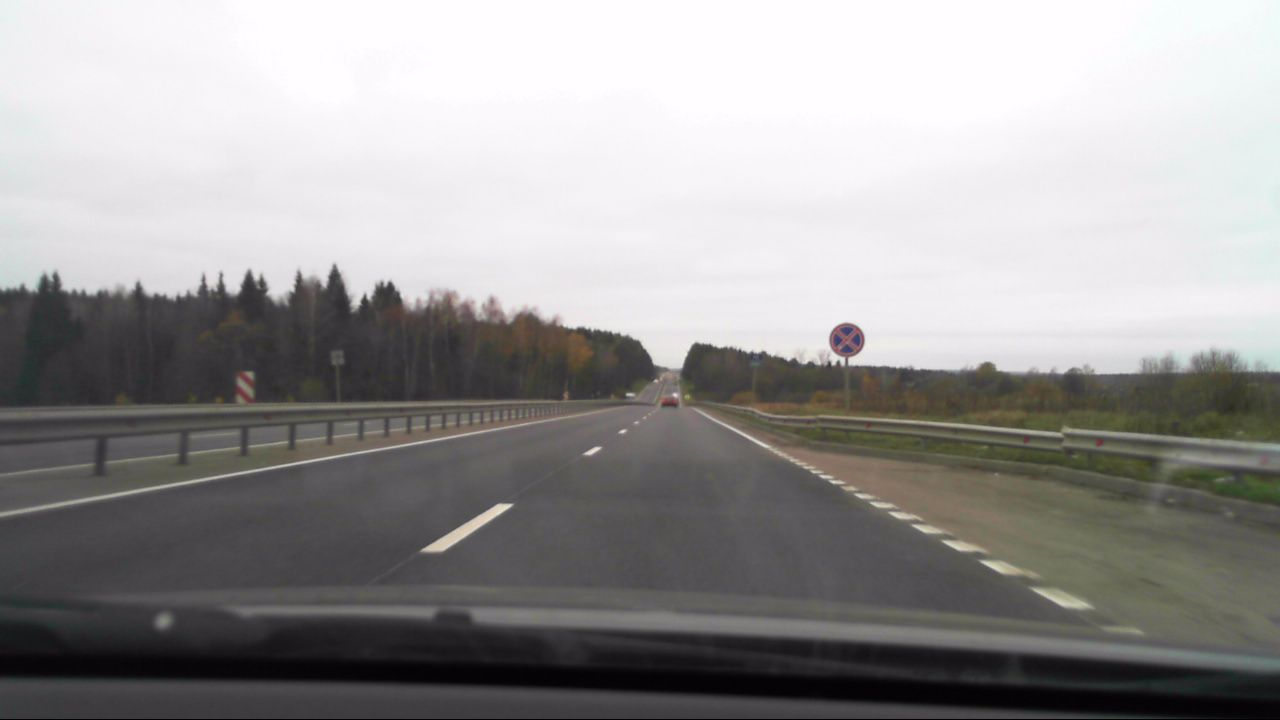No Parking: (827, 322, 866, 358)
